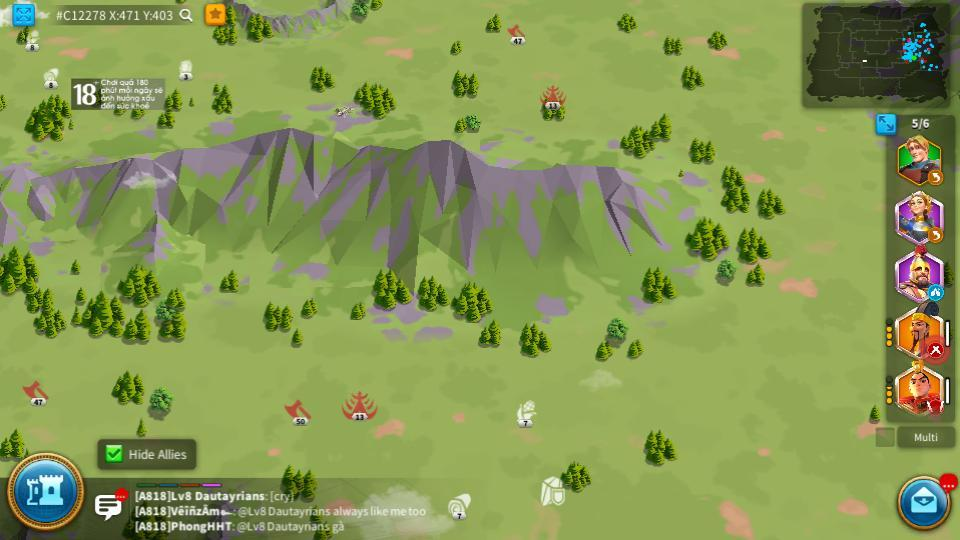gem-z-out: (176, 60, 195, 78)
march_attacking: (927, 402, 945, 414), (927, 345, 944, 357)
march_idle: (929, 284, 942, 299)
march_returning: (927, 170, 944, 185), (928, 229, 942, 242)
